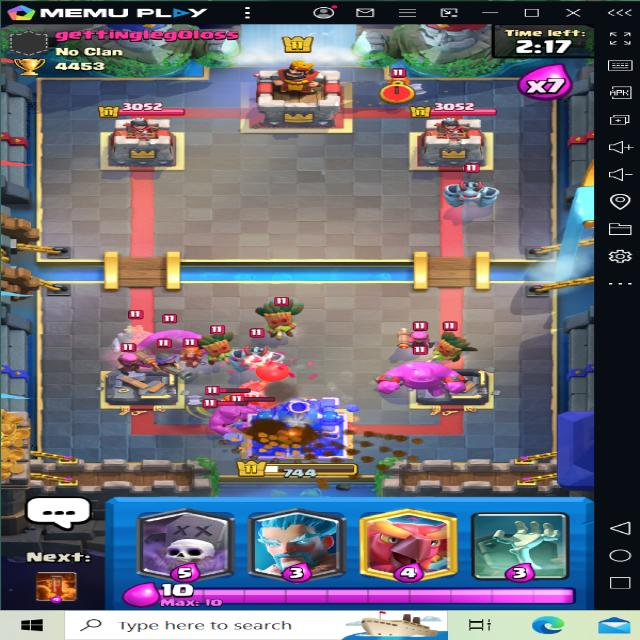dart-goblin: (250, 294, 319, 336), (196, 325, 240, 372), (434, 320, 476, 364)
electro-golem: (379, 347, 465, 407), (139, 317, 229, 355), (205, 403, 258, 431)
firecracker: (387, 318, 433, 346), (105, 347, 149, 373)
mega-minion: (434, 167, 506, 211), (226, 330, 291, 374)
royal-ghost: (110, 309, 164, 353)
valkyrie: (372, 62, 417, 102), (174, 338, 213, 373)
